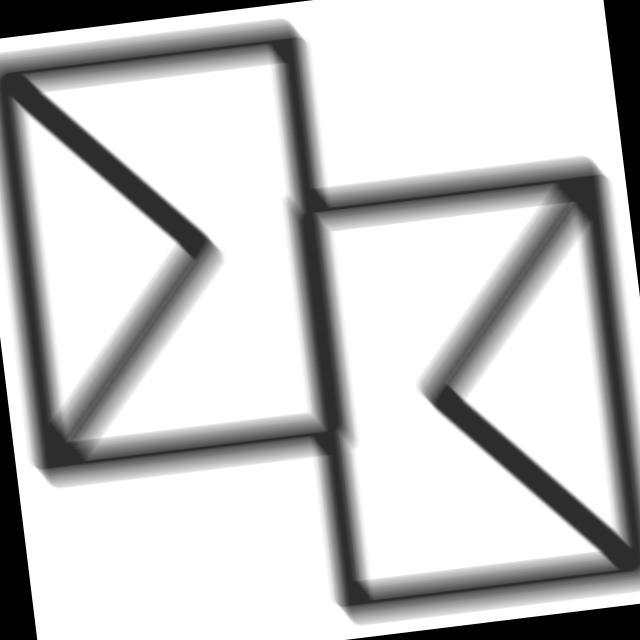letter: (1, 7, 382, 511), (279, 145, 640, 627)
